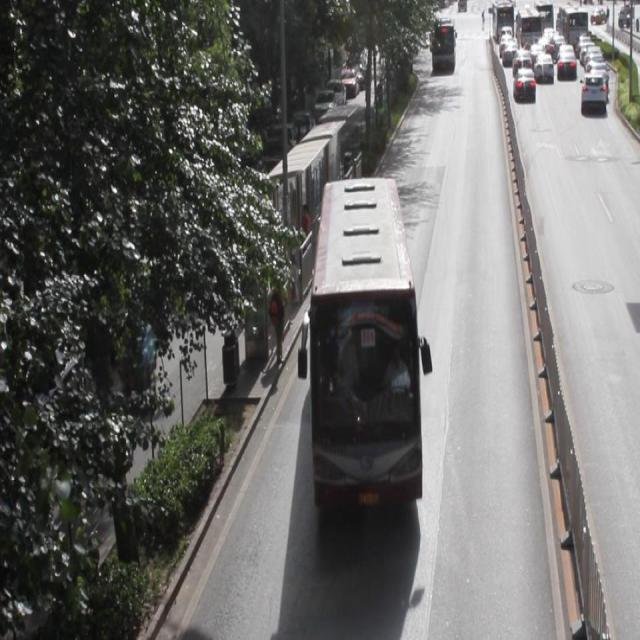BigCar: (291, 170, 455, 495), (426, 10, 460, 86), (559, 2, 597, 48), (514, 7, 544, 55), (488, 0, 517, 45)
car: (576, 69, 614, 118), (511, 66, 543, 112), (532, 52, 552, 88), (558, 47, 577, 80)
